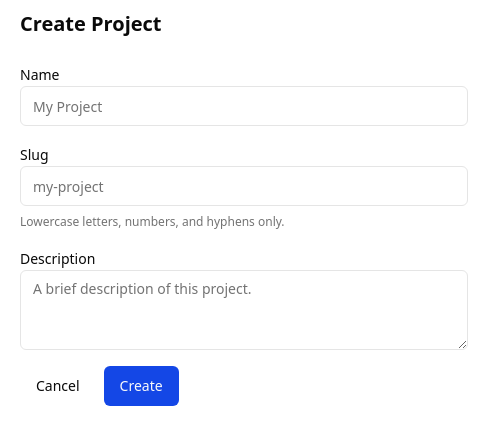
Scenario: CreateProjectPage › auto-generates slug from name input
This screenshot has width=489, height=423.
Type "My New Project" into the field labelled "Name". click: [244, 106]
box: top-left (20, 86), bottom-right (468, 126)
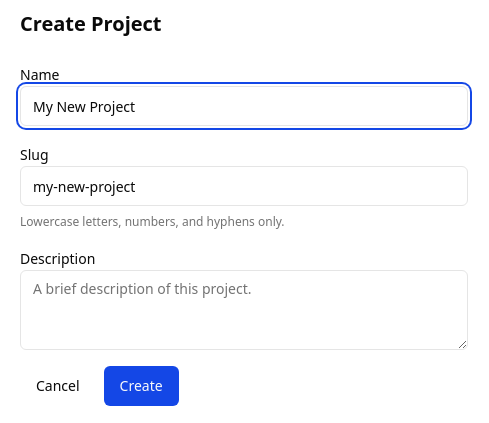
Check: the field labelled "Slug" holds "my-new-project", box top-left (20, 166), bottom-right (468, 206)
